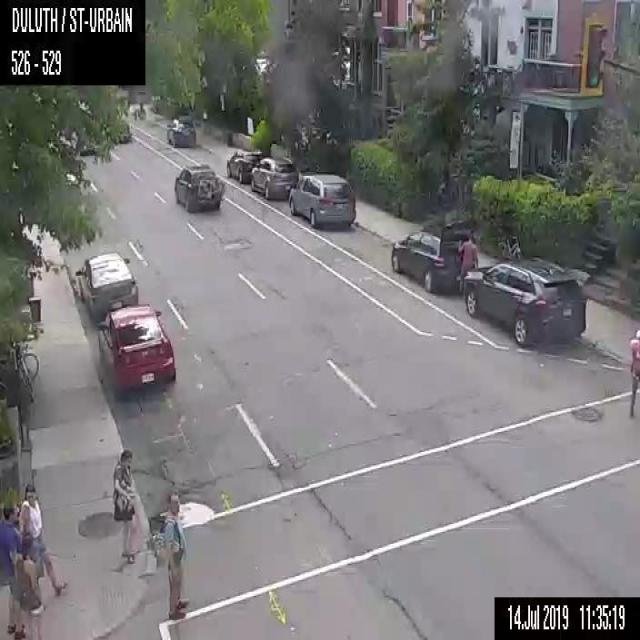pedestrian: (19, 483, 71, 594), (150, 491, 188, 617), (12, 534, 45, 638), (110, 445, 138, 563), (0, 501, 23, 639), (455, 234, 480, 294), (626, 327, 639, 416)
vehicle: (463, 252, 587, 345), (96, 302, 176, 394), (390, 220, 470, 291), (74, 251, 138, 322), (288, 172, 356, 228), (173, 161, 221, 211), (251, 157, 298, 201), (226, 149, 265, 183), (166, 116, 196, 147)
